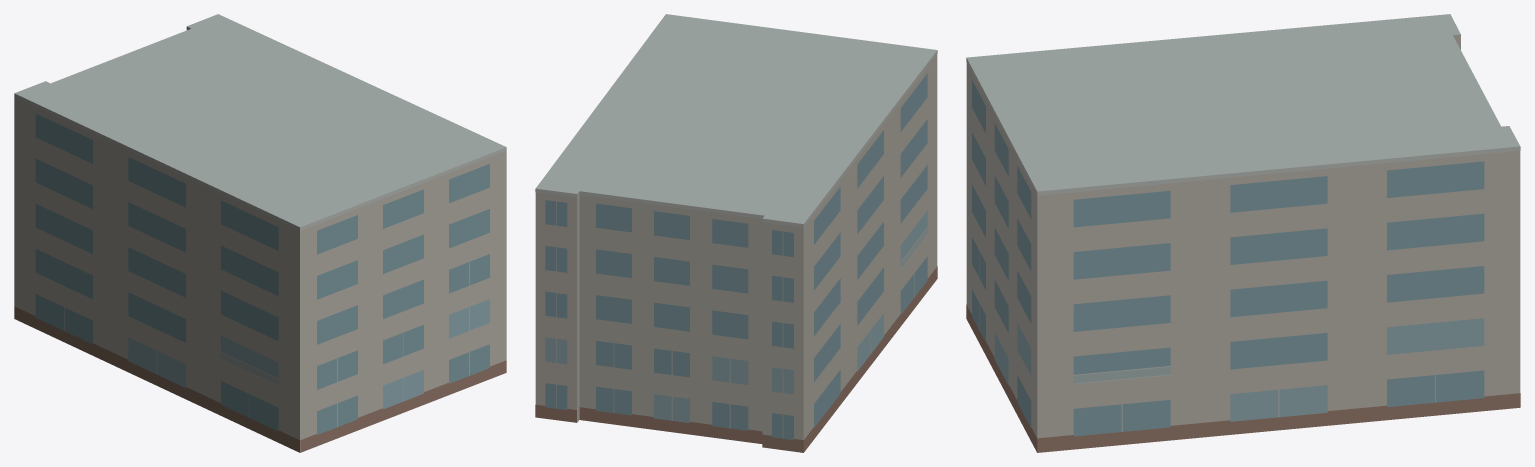
The model's file is survey-upis-32490856.glb.
3 views of the same model, side by side, from view 1: azimuth 30°, elevation 25°; view 2: azimuth 150°, elevation 25°; view 3: azimuth 270°, elevation 25° (orthographic). The views are drawn at different scales.
Parts seen in each view (by area): view 1: survey-upis-32490856.tmp; view 2: survey-upis-32490856.tmp; view 3: survey-upis-32490856.tmp.
Part boxes in pixels (x1,y1,x2,y2): survey-upis-32490856.tmp: (14, 14, 506, 452); survey-upis-32490856.tmp: (535, 14, 937, 452); survey-upis-32490856.tmp: (966, 14, 1520, 452).
Bounding box in the file's own units: 22.24 × 15.25 × 29.31.
